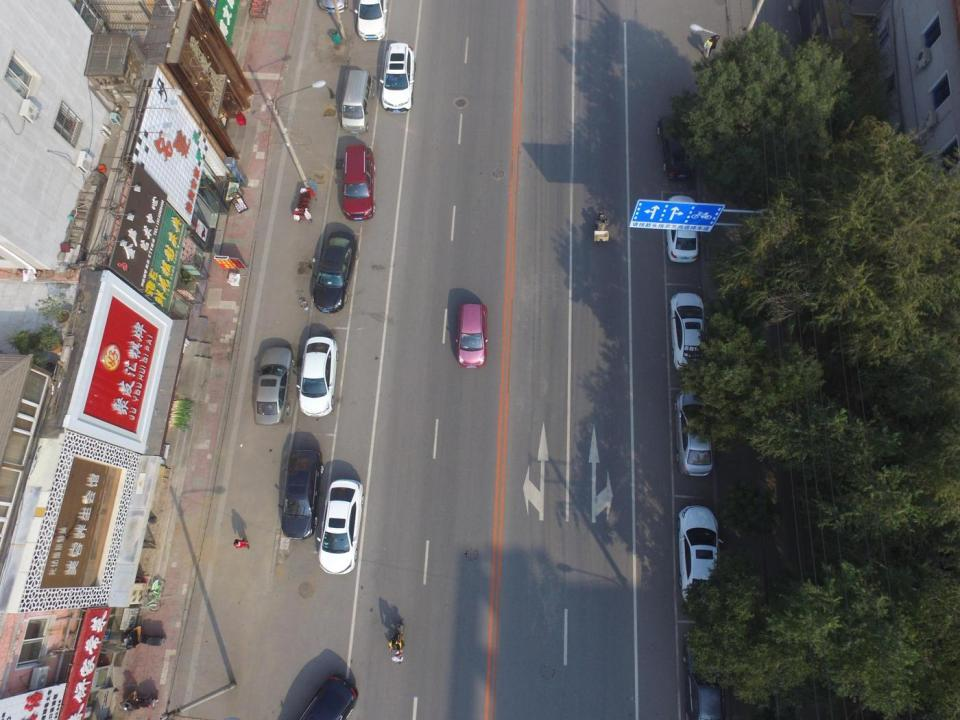car: (315, 478, 365, 575), (677, 504, 724, 607), (278, 449, 324, 540), (312, 230, 360, 314), (681, 638, 727, 718), (674, 388, 714, 477), (296, 335, 339, 417), (254, 346, 295, 426), (669, 290, 709, 371), (292, 673, 359, 720), (379, 42, 416, 113), (663, 195, 700, 264), (656, 115, 694, 181), (455, 303, 489, 369), (353, 0, 388, 41)
van: (341, 144, 376, 221), (340, 69, 375, 134)
